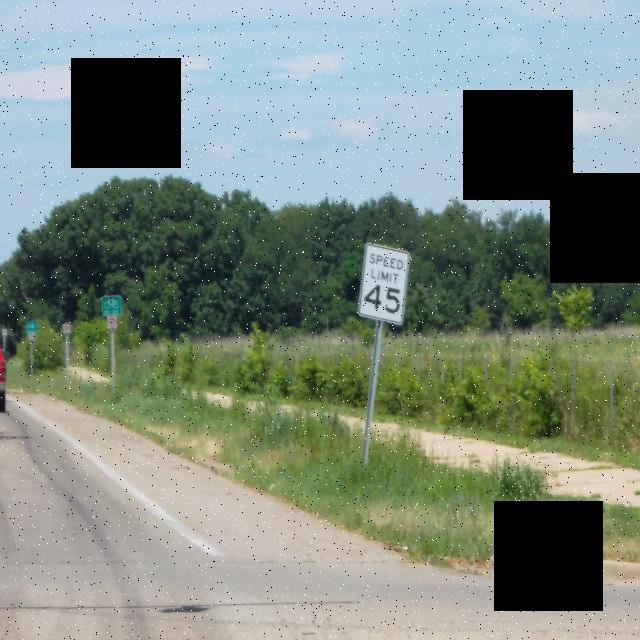regulatory: (359, 244, 408, 323), (106, 315, 118, 331), (63, 323, 71, 334), (28, 332, 35, 342), (1, 328, 8, 336)
